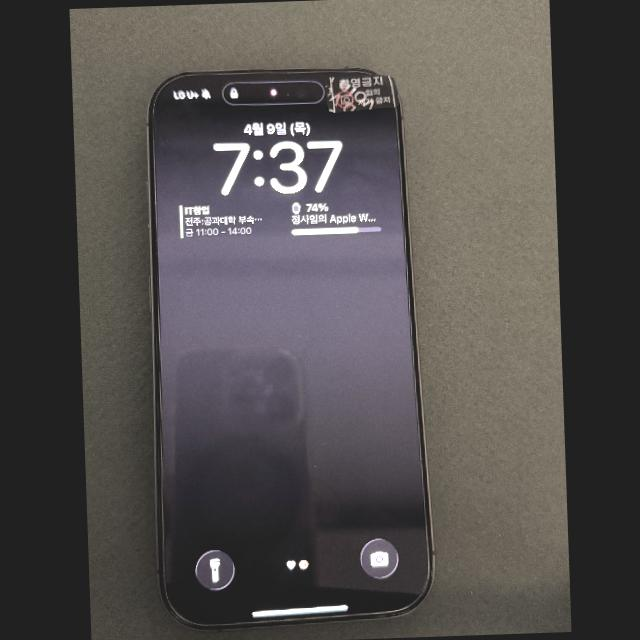lens: (296, 87, 306, 97)
phone: (147, 68, 435, 631)
sticker: (324, 75, 398, 113)
